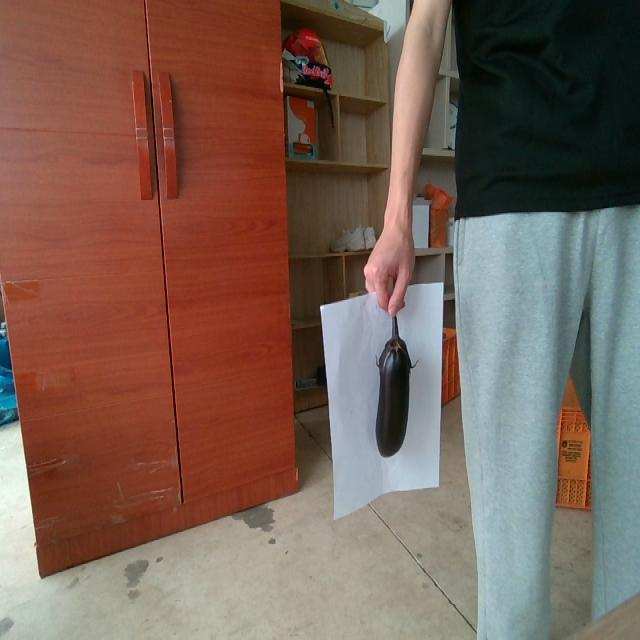Egg plant: (376, 317, 412, 456)
